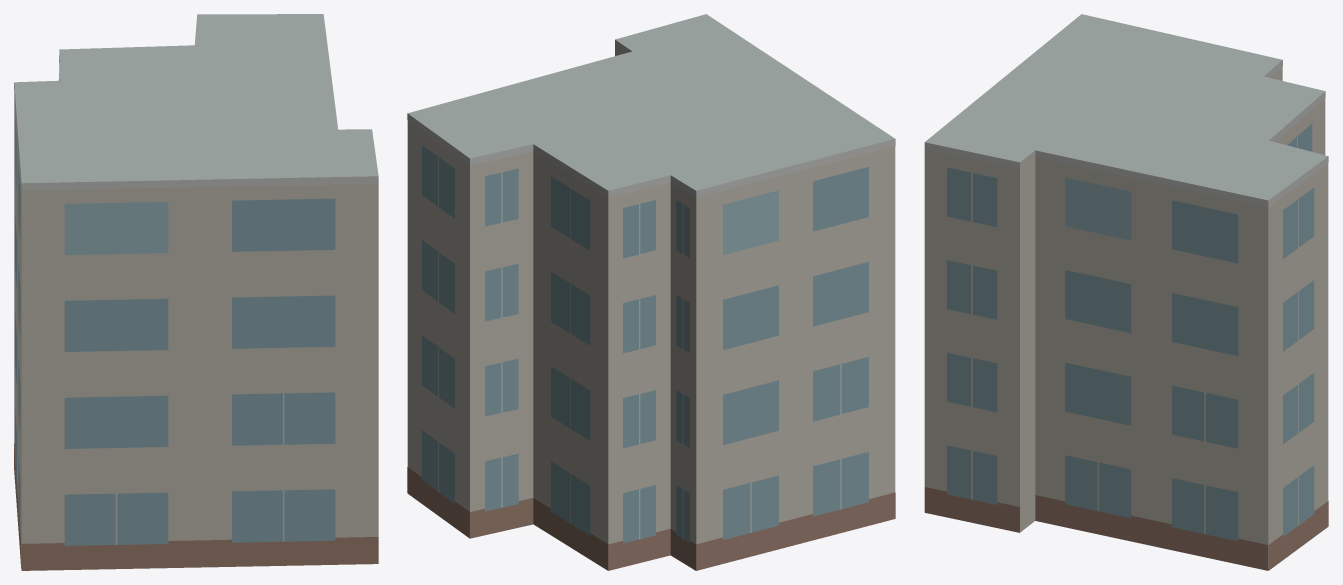
The model's file is survey-upis-33030577.glb.
The picture shows the model from 3 angles, left to right: view 1: azimuth 30°, elevation 25°; view 2: azimuth 150°, elevation 25°; view 3: azimuth 270°, elevation 25°; orthographic projection. The views are drawn at different scales.
Visible parts, largest first — view 1: survey-upis-33030577.tmp; view 2: survey-upis-33030577.tmp; view 3: survey-upis-33030577.tmp.
Part boxes in pixels (x1,y1,x2,y2): survey-upis-33030577.tmp: (14,14,378,570); survey-upis-33030577.tmp: (407,14,895,570); survey-upis-33030577.tmp: (924,14,1328,570).
Bounding box in the file's own units: 14.1 × 13.05 × 12.9.
